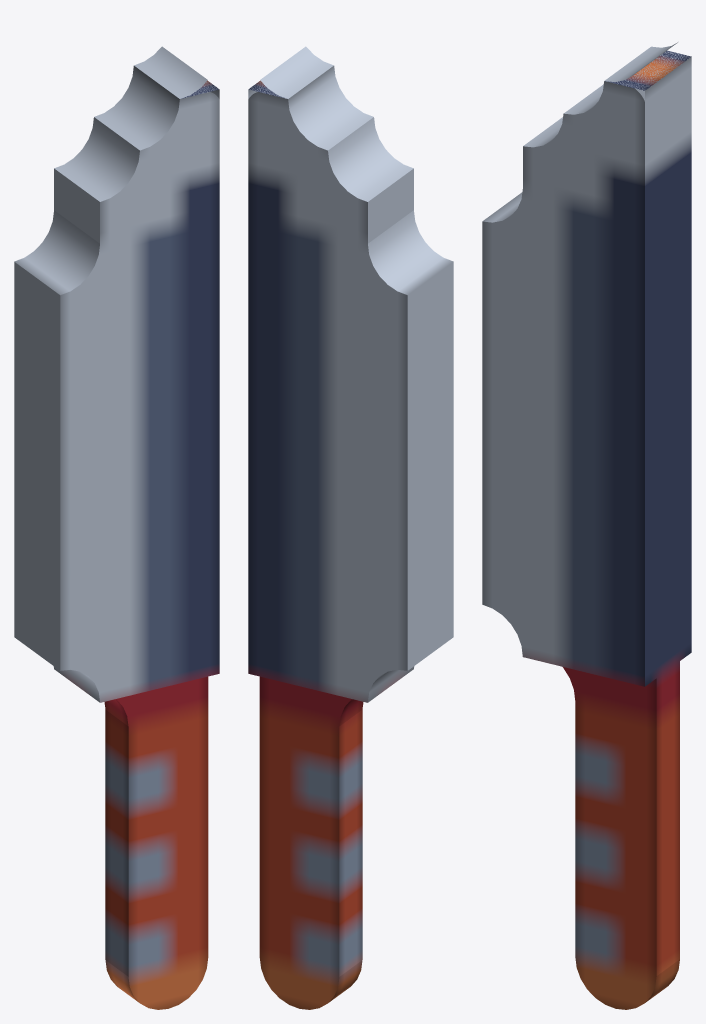
File: facagrossa.fbx
3 renders of one model, left to right at view 1: azimuth 30°, elevation 25°; view 2: azimuth 150°, elevation 25°; view 3: azimuth 330°, elevation 25°, orthographic.
Parts seen in each view (by area): view 1: generated; view 2: generated; view 3: generated.
Boxes of the visible parts, x1,y1,x2,y2 form: generated: (14,46,219,1009); generated: (248,46,453,1009); generated: (482,42,691,1009).
Bounding box in the file's own units: 4 × 23 × 2.
